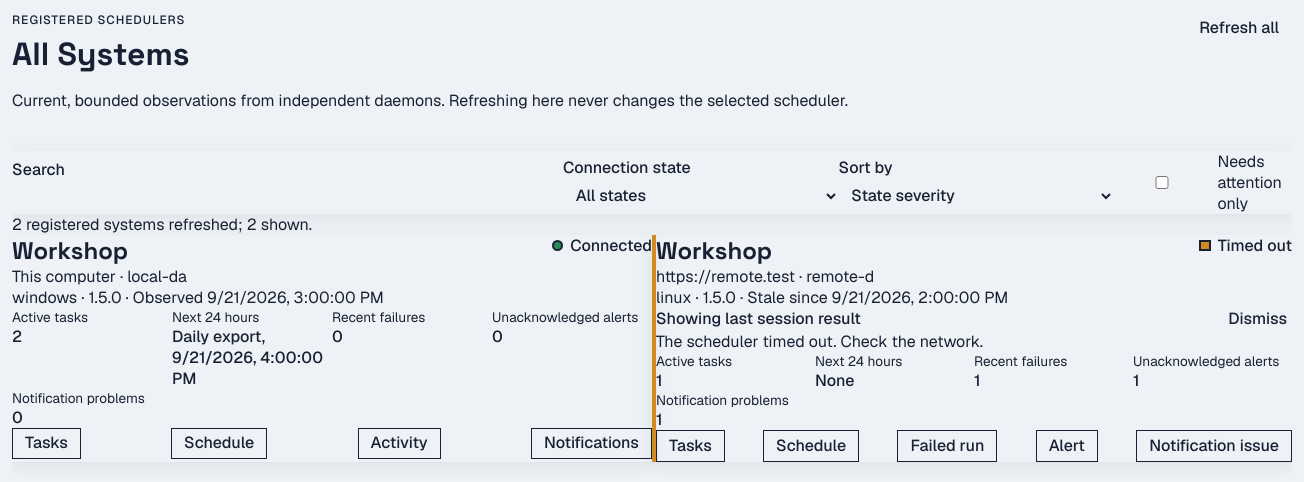
SystemsPage › keeps same-named registrations distinguishable and filters attention
Expected: the text "This computer · local-da" is shown, [12, 266, 187, 287]
Expected: the text "https://remote.test · remote-d" is shown, [656, 266, 874, 287]
Click the checkbox labelled "Needs attention only": (1162, 182) [1118, 176, 1206, 189]
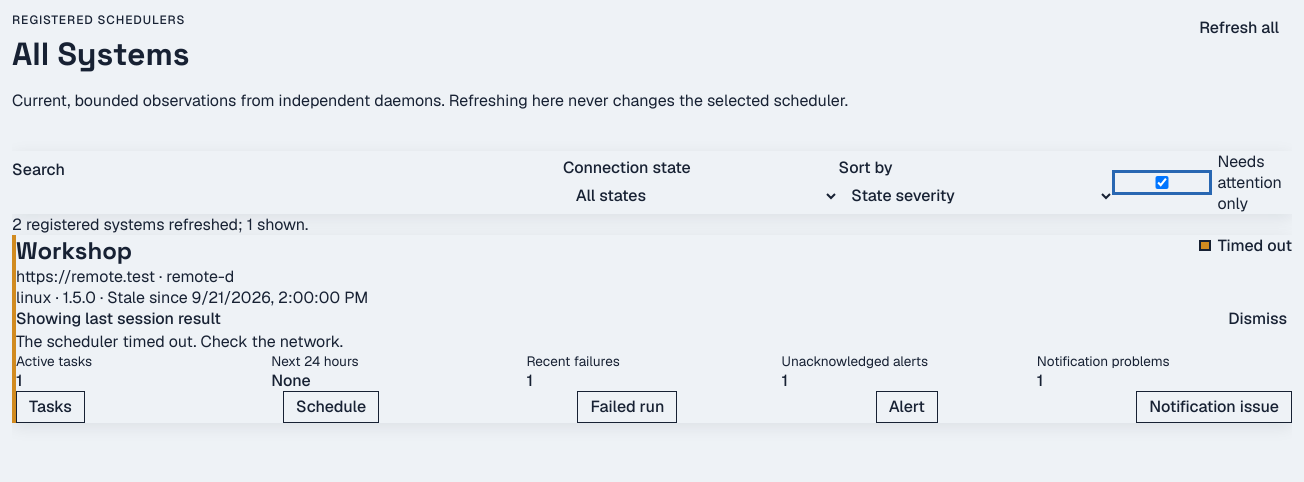
Expected: the text "linux · 1.5.0 · Stale since 9/21/2026, 2:00:00 PM" is shown, [16, 287, 368, 308]
Result: the text "This computer · local-da" is gone
